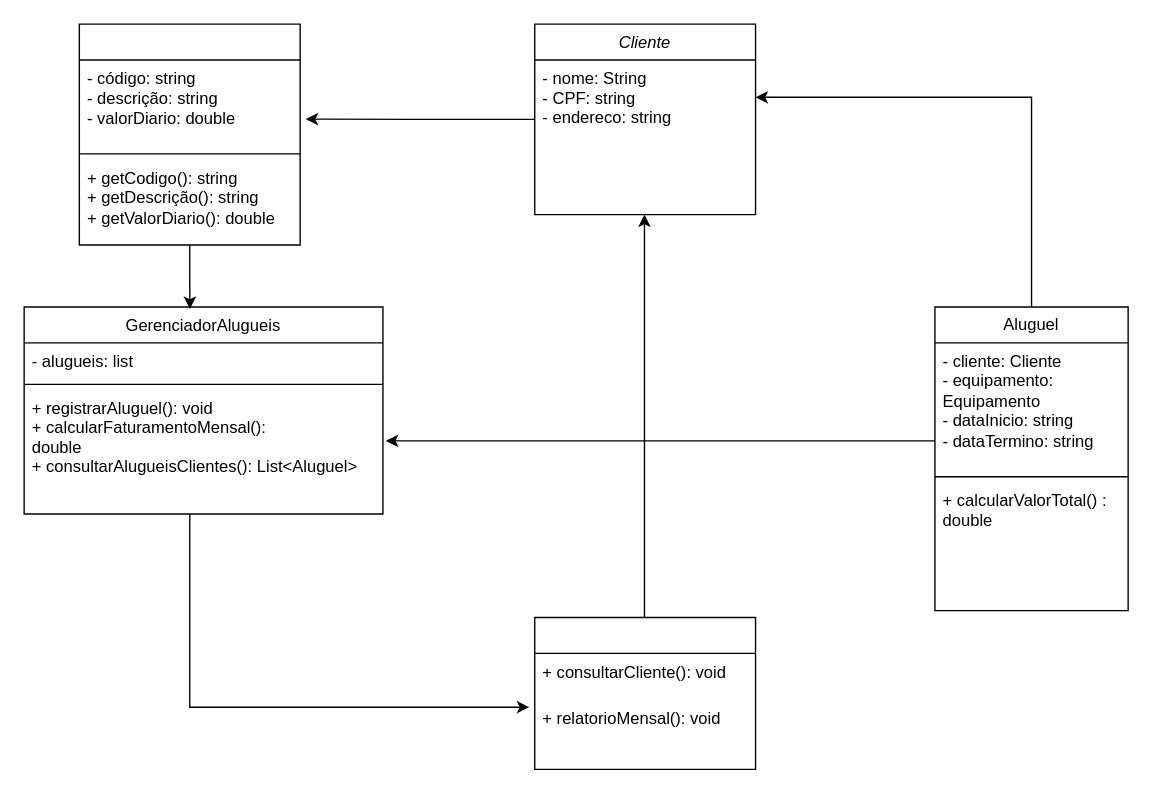
The diagram is 1154 pixels wide and 811 high, and some of its shapes have lost their labels. The shapes that lost their labels are listed below. From the top down, each one's box as (x1, y1, x2, y2) in pixels, then its label:
(78, 23, 300, 245): Equipamento
(533, 616, 756, 769): Funções
